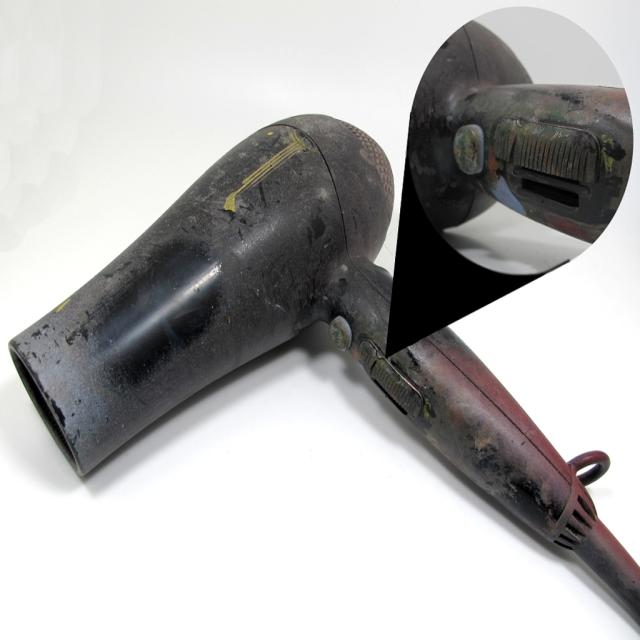dryer: (6, 100, 624, 589)
